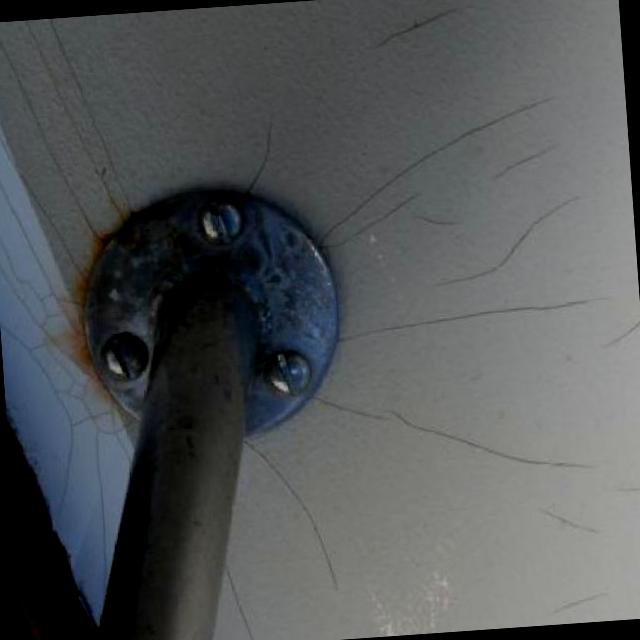crack: (316, 93, 565, 240), (309, 397, 599, 473), (0, 36, 104, 247), (27, 33, 127, 229), (239, 433, 342, 601), (335, 289, 608, 347), (0, 317, 77, 522), (0, 127, 94, 291), (436, 192, 592, 289), (54, 33, 134, 217), (0, 172, 85, 340), (0, 265, 101, 387), (54, 389, 110, 603), (323, 189, 426, 253), (0, 238, 49, 329), (487, 141, 562, 184), (240, 114, 275, 200), (96, 397, 135, 470), (536, 504, 611, 538), (598, 317, 640, 352), (414, 213, 459, 227)
